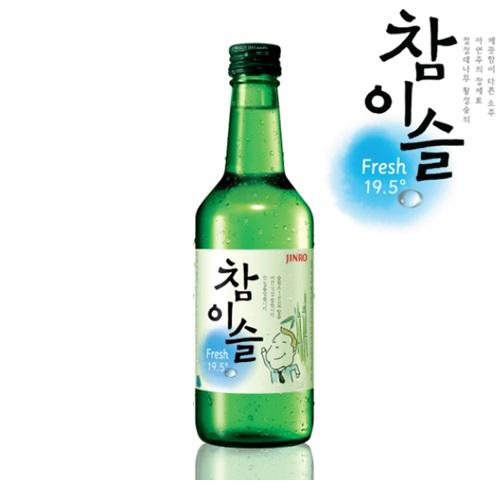soju: (191, 42, 318, 449)
